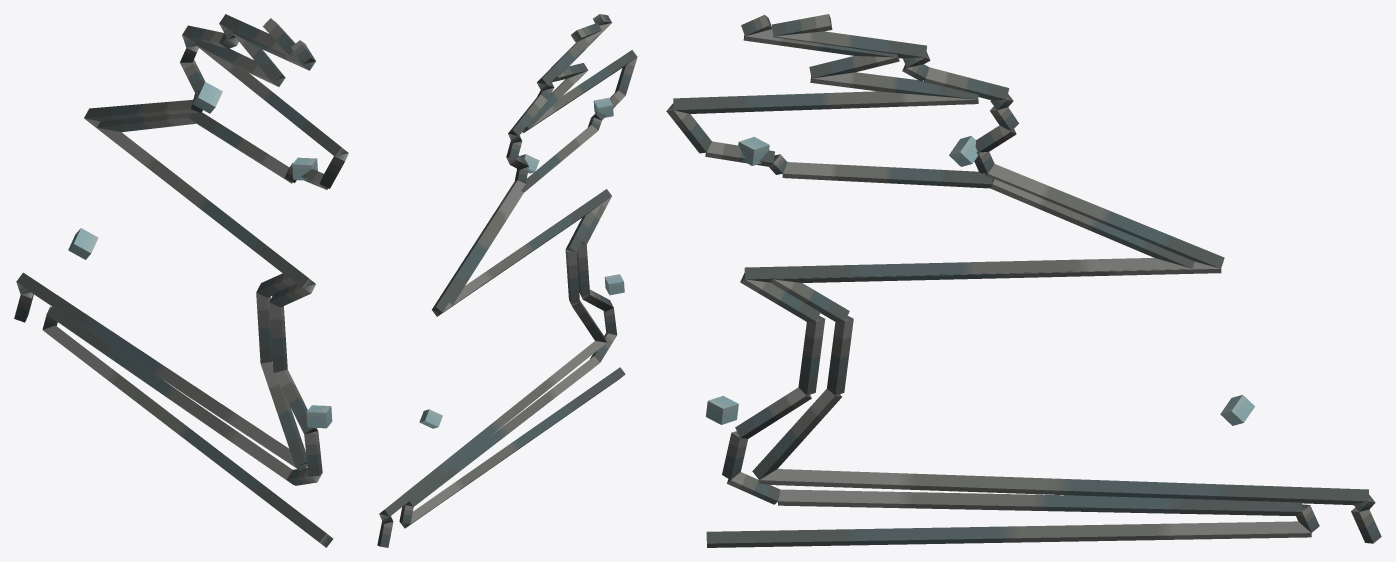
The model's file is pz_native_electrical_188.obj.
3 views of the same model, side by side, from view 1: azimuth 30°, elevation 25°; view 2: azimuth 150°, elevation 25°; view 3: azimuth 270°, elevation 25° (orthographic). The views are drawn at different scales.
Parts seen in each view (by area): view 1: conduit, conduit_end; view 2: conduit, conduit_end; view 3: conduit, conduit_end.
Boxes of the visible parts, bbox=[...] form: conduit: bbox=[14, 14, 344, 543]; conduit_end: bbox=[21, 35, 348, 547]; conduit: bbox=[377, 14, 637, 547]; conduit_end: bbox=[379, 14, 623, 528]; conduit: bbox=[666, 14, 1381, 547]; conduit_end: bbox=[667, 15, 1375, 511].
Size of the model in its own units: 0.042 by 0.7894 by 0.9586.
Materials: 1 (1 with a texture image).
